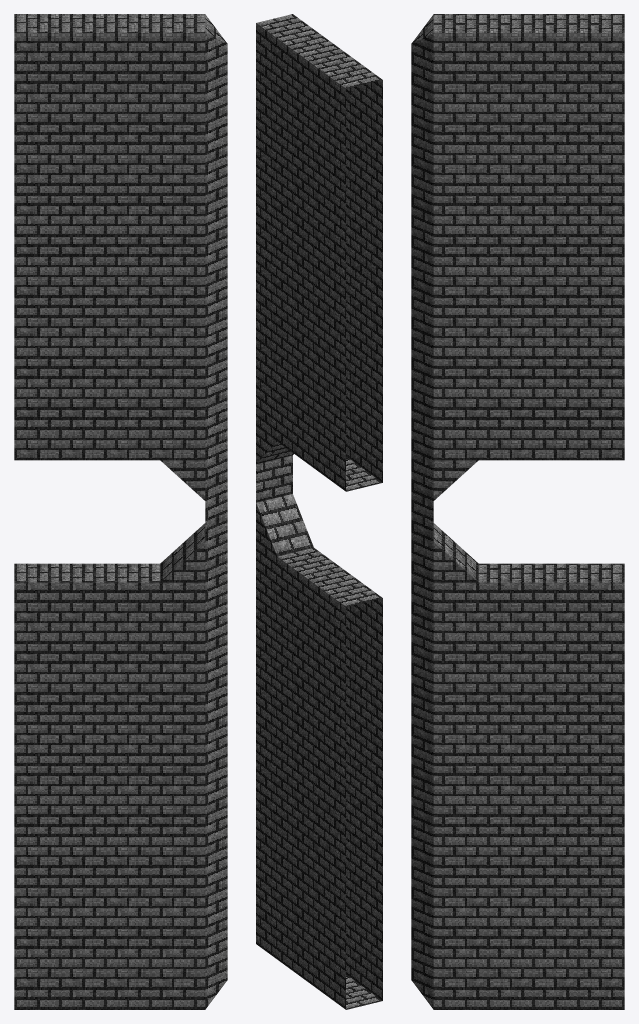
The model's file is gate.obj.
3 renders of one model, left to right at view 1: azimuth 90°, elevation 25°; view 2: azimuth 210°, elevation 25°; view 3: azimuth 270°, elevation 25°, orthographic. The views are drawn at different scales.
Size of the model in its own units: 64 by 1536 by 304.
